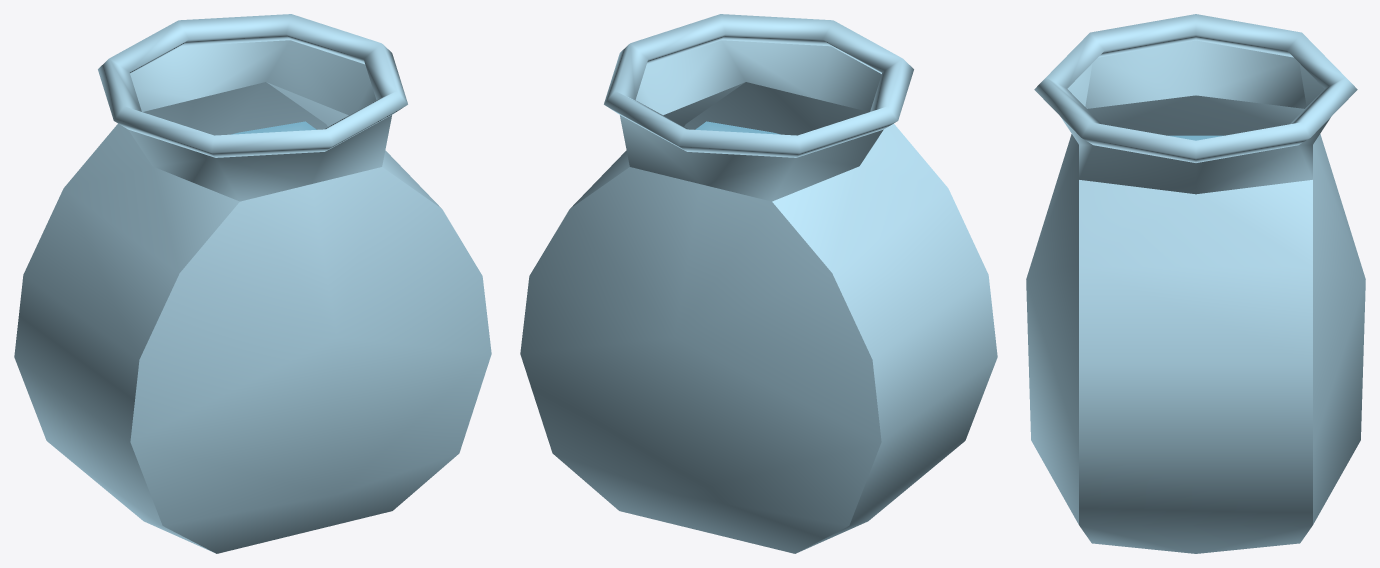
The model's file is Fish_Bowl.fbx.
3 views of the same model, side by side, from view 1: azimuth 30°, elevation 25°; view 2: azimuth 150°, elevation 25°; view 3: azimuth 270°, elevation 25° (orthographic).
Parts seen in each view (by area): view 1: Bowl; view 2: Bowl; view 3: Bowl.
Part boxes in pixels (x1,y1,x2,y2): Bowl: (14,14,491,553); Bowl: (520,14,997,553); Bowl: (1026,14,1365,553).
Bounding box in the file's own units: 70.14 × 77.89 × 56.7.
